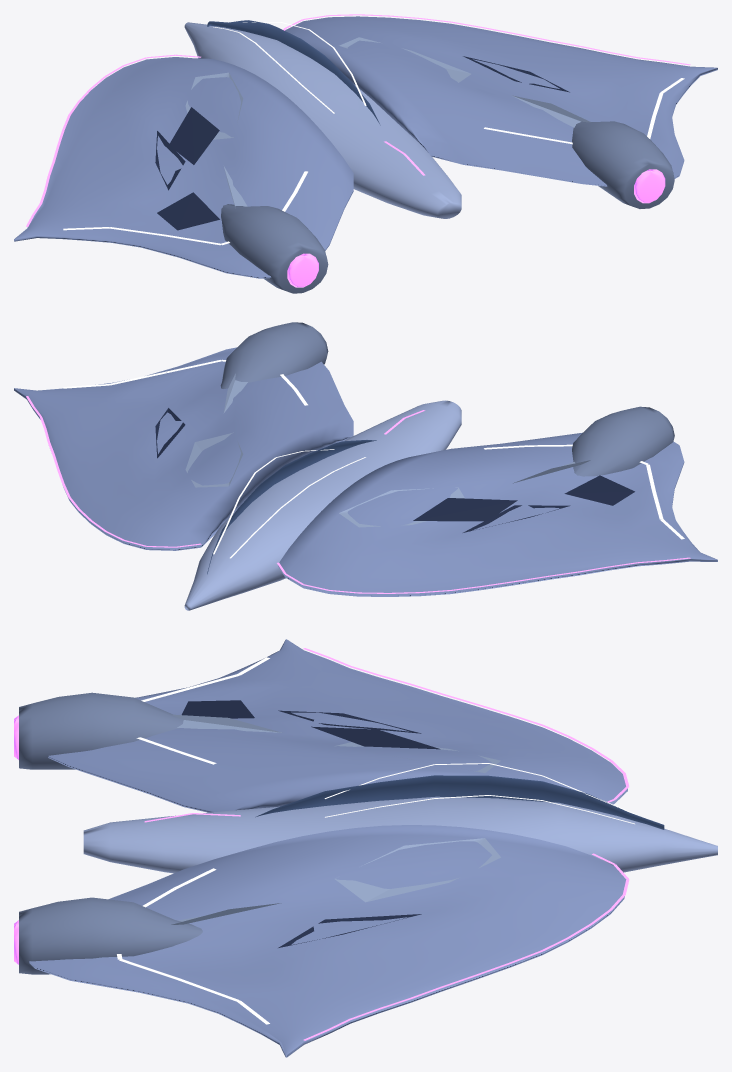
File: stingray-evo-hero-v4.gltf
3 views of the same model, one above another, from view 1: azimuth 30°, elevation 25°; view 2: azimuth 150°, elevation 25°; view 3: azimuth 270°, elevation 25° (orthographic). The views are drawn at different scales.
Parts seen in each view (by area): view 1: Hero_Wing_L, Hero_Wing_R, Hero_Hull_Spine, Hero_Engine_L, Hero_Engine_R, Hero_Canopy, Hero_Detail_Vent_A_L, Hero_Detail_Vent_B_L, Hero_Detail_Engine_Core_R, Hero_Detail_Engine_Core_L, Hero_Edge_R, Hero_Edge_L (+4 smaller); view 2: Hero_Wing_L, Hero_Wing_R, Hero_Hull_Spine, Hero_Engine_L, Hero_Engine_R, Hero_Detail_Vent_A_L, Hero_Canopy, Hero_Detail_Vent_B_L, Hero_Edge_L, Hero_Detail_Shoulder_R, Hero_Edge_R, Hero_Detail_Ice_L (+2 smaller); view 3: Hero_Wing_R, Hero_Wing_L, Hero_Hull_Spine, Hero_Engine_R, Hero_Engine_L, Hero_Canopy, Hero_Detail_Shoulder_R, Hero_Detail_Vent_A_L, Hero_Detail_Vent_B_L, Hero_Edge_R, Hero_Detail_Engine_Fin_L, Hero_Edge_L (+2 smaller).
Boxes of the visible parts, x1,y1,x2,y2 form: Hero_Wing_L: (14,57,353,278); Hero_Wing_R: (285,16,717,186); Hero_Hull_Spine: (184,22,461,218); Hero_Engine_L: (221,204,328,293); Hero_Engine_R: (572,121,674,208); Hero_Canopy: (207,20,380,125); Hero_Detail_Vent_A_L: (169,107,219,164); Hero_Detail_Vent_B_L: (157,192,219,230); Hero_Detail_Engine_Core_R: (634,169,665,203); Hero_Detail_Engine_Core_L: (287,253,318,287); Hero_Edge_R: (283,14,690,65); Hero_Edge_L: (26,54,200,226); Hero_Wing_L: (278,432,717,596); Hero_Wing_R: (14,347,353,550); Hero_Hull_Spine: (184,400,461,610); Hero_Engine_L: (572,406,674,476); Hero_Engine_R: (220,322,328,388); Hero_Detail_Vent_A_L: (413,498,517,521); Hero_Canopy: (207,440,376,574); Hero_Detail_Vent_B_L: (564,475,634,505); Hero_Edge_L: (277,557,690,593); Hero_Detail_Shoulder_R: (185,432,243,487); Hero_Edge_R: (26,396,201,547); Hero_Detail_Ice_L: (484,444,684,539); Hero_Wing_R: (29,825,626,1057); Hero_Wing_L: (48,639,627,812); Hero_Hull_Spine: (83,796,717,873); Hero_Engine_R: (19,897,202,974); Hero_Engine_L: (19,692,183,769); Hero_Canopy: (255,775,664,829); Hero_Detail_Shoulder_R: (335,838,500,902); Hero_Detail_Vent_A_L: (311,726,440,749); Hero_Detail_Vent_B_L: (181,700,254,718); Hero_Edge_R: (303,853,629,1040); Hero_Detail_Engine_Fin_L: (172,714,282,732); Hero_Edge_L: (303,648,629,802).
Size of the model in its own units: 8.08 by 0.93 by 5.78.
